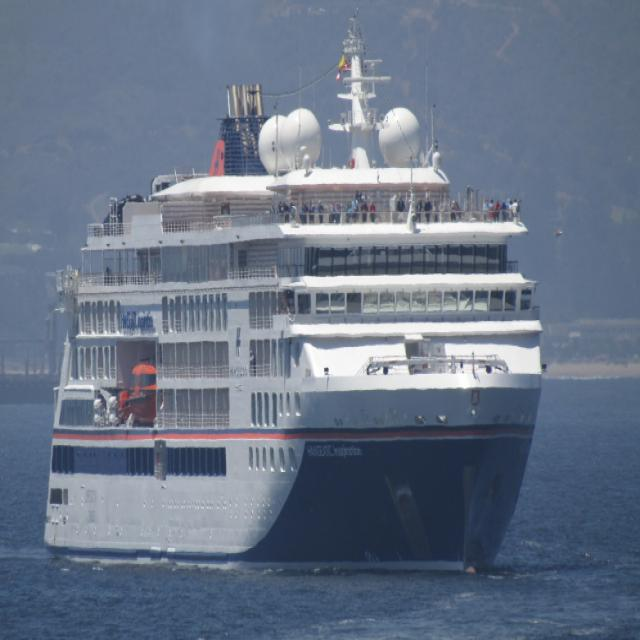cruises: (34, 16, 550, 577)
